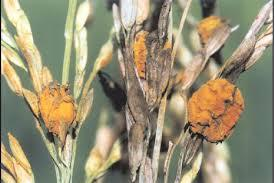False Smut: (186, 74, 248, 144), (120, 28, 172, 97), (33, 77, 84, 145), (192, 10, 234, 54)
